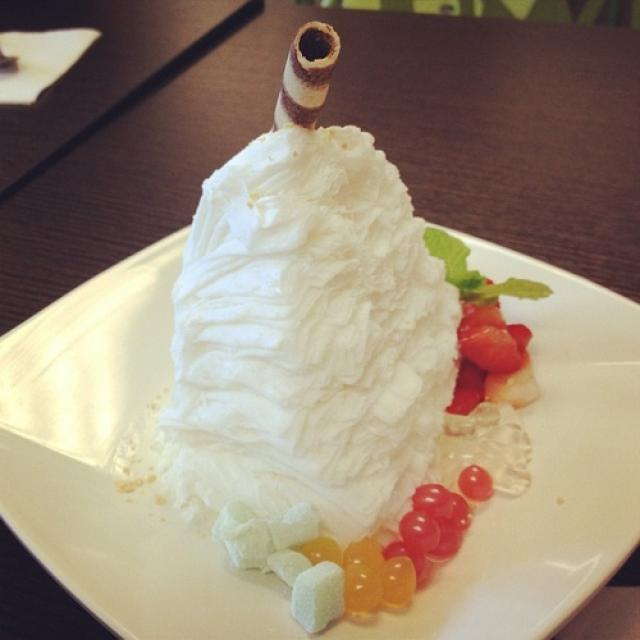蛋糕甜品: (136, 50, 535, 599)
